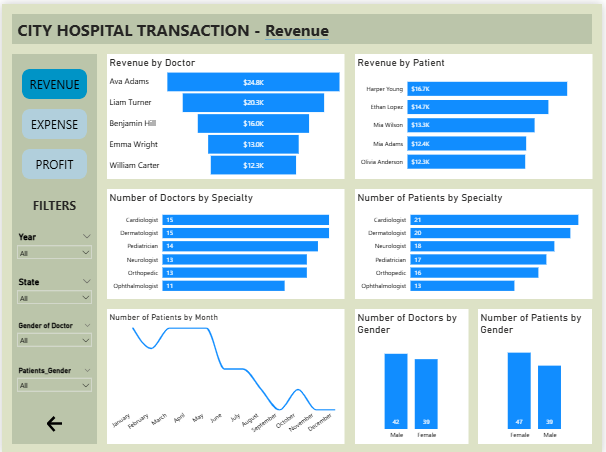

The dashboard page shown, as its layout file describes it:
{"tool":"powerbi","page":{"name":"2","canvas":[1200,900],"ordinal":1},"visuals":[{"type":"funnel","fields":{"Y":["Facts Table.Revenue"],"Category":["Doctor Dim.Doctors_Name"]},"box":[210,100,475,250],"z":0},{"type":"barChart","fields":{"Y":["Facts Table.Revenue"],"Category":["Patient Dim.Patients Name"]},"box":[705,100,475,250],"z":1000},{"type":"shape","box":[20,20,1160,60],"z":2000},{"type":"shape","box":[20,100,170,780],"z":3000},{"type":"textbox","box":[20,380,170,50],"z":4000},{"type":"slicer","fields":{"Values":["Facts Table.Date.Variation.Date Hierarchy.Year"]},"box":[20,450,170,70],"z":5000},{"type":"slicer","fields":{"Values":["Location Dim.State"]},"box":[20,540,170,70],"z":6000},{"type":"slicer","fields":{"Values":["Doctor Dim.Doctor_Gender"]},"box":[20,630,170,70],"z":7000},{"type":"slicer","fields":{"Values":["Patient Dim.Patients_Gender"]},"box":[20,720,170,70],"z":8000},{"type":"textbox","box":[25,25,700,50],"z":9000},{"type":"barChart","title":"Number of Doctors by Specialty","fields":{"Category":["Doctor Dim.Specialty"],"Y":["CountNonNull(Doctor Dim.DoctorID)"]},"box":[210,370,475,220],"z":10000},{"type":"barChart","title":"Number of Patients by Specialty","fields":{"Category":["Doctor Dim.Specialty"],"Y":["CountNonNull(Patient Dim.PatientID)"]},"box":[705,370,475,220],"z":11000},{"type":"lineChart","fields":{"Category":["Facts Table.Date.Variation.Date Hierarchy.Month"],"Y":["CountNonNull(Patient Dim.PatientID)"]},"box":[210,610,475,270],"z":12000},{"type":"columnChart","title":"Number of Doctors by Gender","fields":{"Category":["Doctor Dim.Doctor_Gender"],"Y":["CountNonNull(Doctor Dim.DoctorID)"]},"box":[705,610,227,270],"z":13000},{"type":"columnChart","title":"Number of Patients by Gender","fields":{"Category":["Patient Dim.Patients_Gender"],"Y":["CountNonNull(Patient Dim.PatientID)"]},"box":[952,610,228,270],"z":14000},{"type":"actionButton","box":[40,210,130,60],"z":17000},{"type":"actionButton","box":[40,290,130,60],"z":18000},{"type":"actionButton","box":[40,130,130,60],"z":19000},{"type":"actionButton","box":[55,820,100,40],"z":22001}]}

Visuals, with their boxes in screenshot pixels (x1, y1, x2, y2), scaled from the page's 1200x900 canvas onto the 606x452 screenshot:
funnel - Facts Table.Revenue x Doctor Dim.Doctors_Name: l=106, t=50, r=346, b=176
barChart - Facts Table.Revenue x Patient Dim.Patients Name: l=356, t=50, r=596, b=176
shape: l=10, t=10, r=596, b=40
shape: l=10, t=50, r=96, b=442
textbox: l=10, t=191, r=96, b=216
slicer - Facts Table.Date.Variation.Date Hierarchy.Year: l=10, t=226, r=96, b=261
slicer - Location Dim.State: l=10, t=271, r=96, b=306
slicer - Doctor Dim.Doctor_Gender: l=10, t=316, r=96, b=352
slicer - Patient Dim.Patients_Gender: l=10, t=362, r=96, b=397
textbox: l=13, t=13, r=366, b=38
"Number of Doctors by Specialty" barChart: l=106, t=186, r=346, b=296
"Number of Patients by Specialty" barChart: l=356, t=186, r=596, b=296
lineChart - Facts Table.Date.Variation.Date Hierarchy.Month x CountNonNull(Patient Dim.PatientID): l=106, t=306, r=346, b=442
"Number of Doctors by Gender" columnChart: l=356, t=306, r=471, b=442
"Number of Patients by Gender" columnChart: l=481, t=306, r=596, b=442
actionButton: l=20, t=105, r=86, b=136
actionButton: l=20, t=146, r=86, b=176
actionButton: l=20, t=65, r=86, b=95
actionButton: l=28, t=412, r=78, b=432
